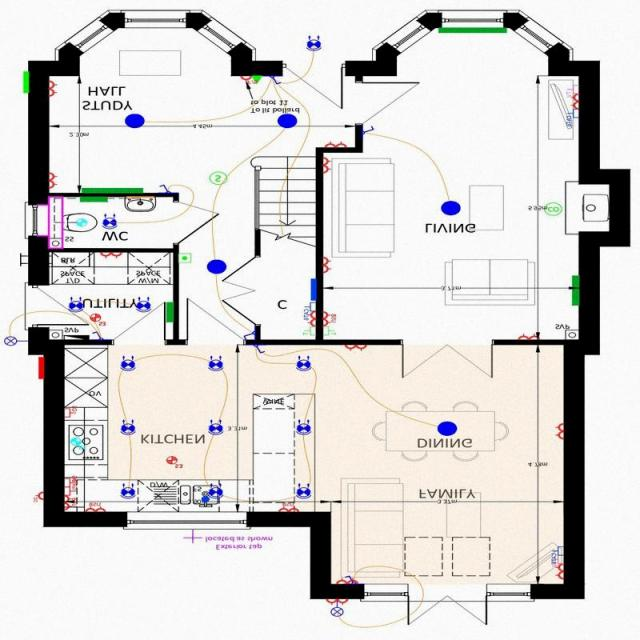BT Entry Point: (252, 77, 260, 84)
Cat 6 Data Socket: (302, 303, 316, 322), (564, 110, 578, 129), (550, 547, 562, 563)
Ceiling Mounted Continuous Extract FanWith Boost Mode Activated By Light Switch: (76, 220, 86, 227)
Ceiling Mounted Continuous Extract FanWith Local Boost Switch: (164, 456, 182, 469), (90, 314, 106, 328)
Co-Ax TV Socket: (566, 85, 576, 98)
Consumer Unit: (63, 336, 89, 341)
Double Socket: (334, 578, 360, 586), (48, 172, 57, 190), (48, 80, 57, 98), (516, 334, 538, 341), (322, 158, 330, 175), (554, 425, 563, 440), (554, 565, 563, 580), (325, 600, 347, 606), (344, 346, 366, 352), (324, 142, 346, 148), (322, 258, 330, 274), (307, 312, 315, 327), (570, 95, 578, 110), (100, 254, 122, 259)
Electric Meter Box: (38, 358, 44, 380)
External Wall Light: (4, 337, 26, 346), (330, 602, 342, 618)
Fused spur: (240, 76, 257, 85)
Gas Meter Box: (22, 73, 28, 93)
Grid Switch: (63, 482, 75, 496)
Hob Switch: (63, 477, 76, 488)
Light Switch: (362, 126, 374, 136), (269, 76, 281, 85), (242, 332, 254, 341), (91, 332, 102, 341), (253, 346, 265, 354), (344, 576, 354, 585), (159, 186, 170, 194)
Low Energy Downlighter: (118, 421, 136, 436), (294, 356, 310, 372), (66, 298, 82, 314), (305, 36, 321, 52), (296, 483, 310, 501), (134, 298, 152, 312), (120, 483, 134, 500), (208, 483, 222, 500), (120, 356, 134, 373), (102, 213, 116, 230), (208, 420, 222, 436), (208, 356, 222, 372), (296, 420, 310, 436)
Low Energy Pendant Light: (206, 259, 227, 275), (276, 114, 297, 130), (124, 114, 144, 130), (439, 202, 461, 216), (437, 422, 456, 436)
Mains Wired Smoke Detector: (208, 172, 227, 186)
Outside Socket: (32, 493, 43, 503)
Outside Tap: (182, 530, 201, 544)
Oven Switch: (64, 406, 77, 418)
Programmable Room Thermostat: (178, 254, 190, 264)
Radiator: (438, 28, 507, 34), (80, 188, 142, 194), (572, 277, 578, 306), (166, 303, 172, 323), (80, 198, 106, 202)
Recirculating Extractor Fan: (70, 438, 86, 452)
TV - Satellite Multisocket: (552, 557, 562, 568)
Telephone Socket: (322, 327, 336, 337), (302, 328, 314, 337)
USB Double Socket: (278, 503, 298, 514), (322, 313, 336, 327), (86, 503, 104, 513), (64, 496, 76, 511)
Underfloor Heating Manifold: (310, 279, 316, 301)
Water Entry Position: (201, 497, 209, 503)
